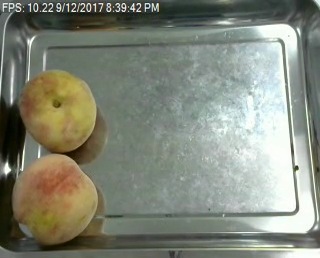Peach: (12, 153, 98, 246), (17, 68, 99, 152)
